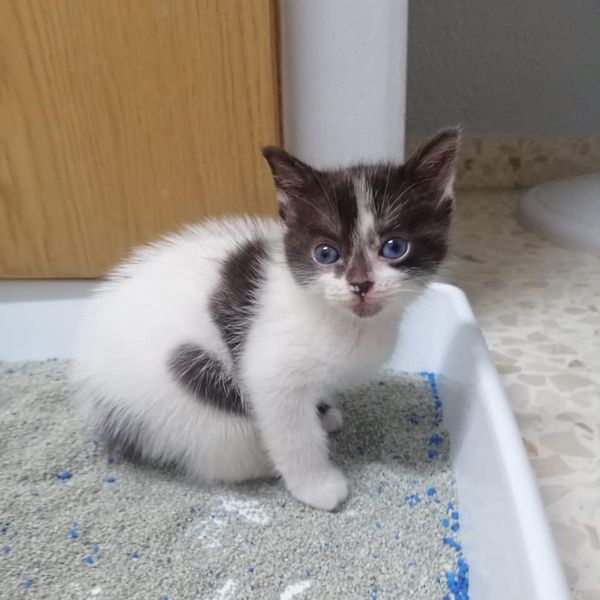cat: (67, 114, 474, 510)
